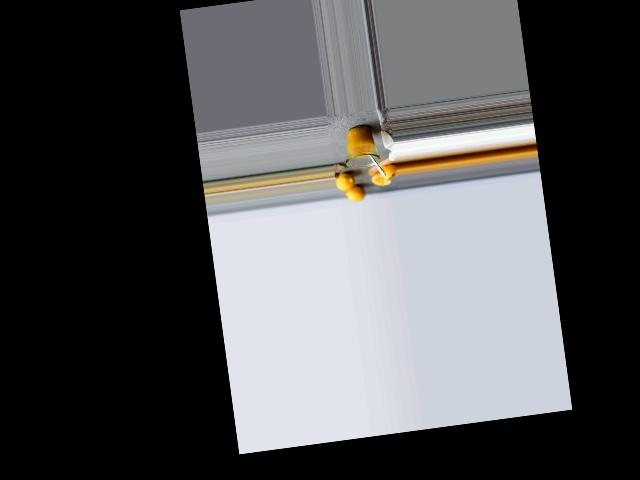lemon: (342, 186, 365, 204)
